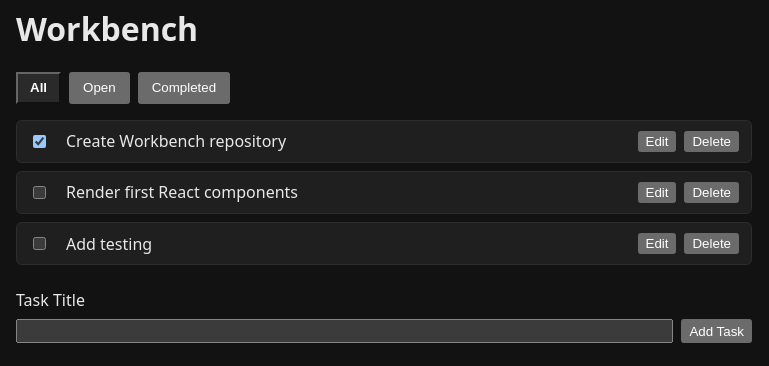
Test: puts a task into edit mode when the user clicks its edit button
Click the button with aria-label "edit render first react components": (657, 192) 638,182 -> 676,203
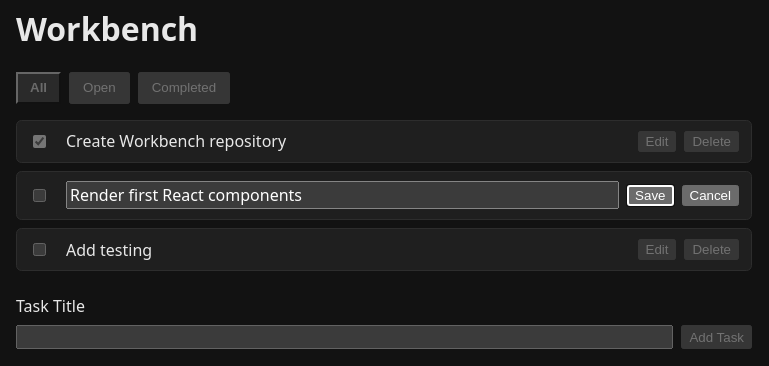
Expected: the field named "render first react components" holds "Render first React components", 66,181 -> 619,209
